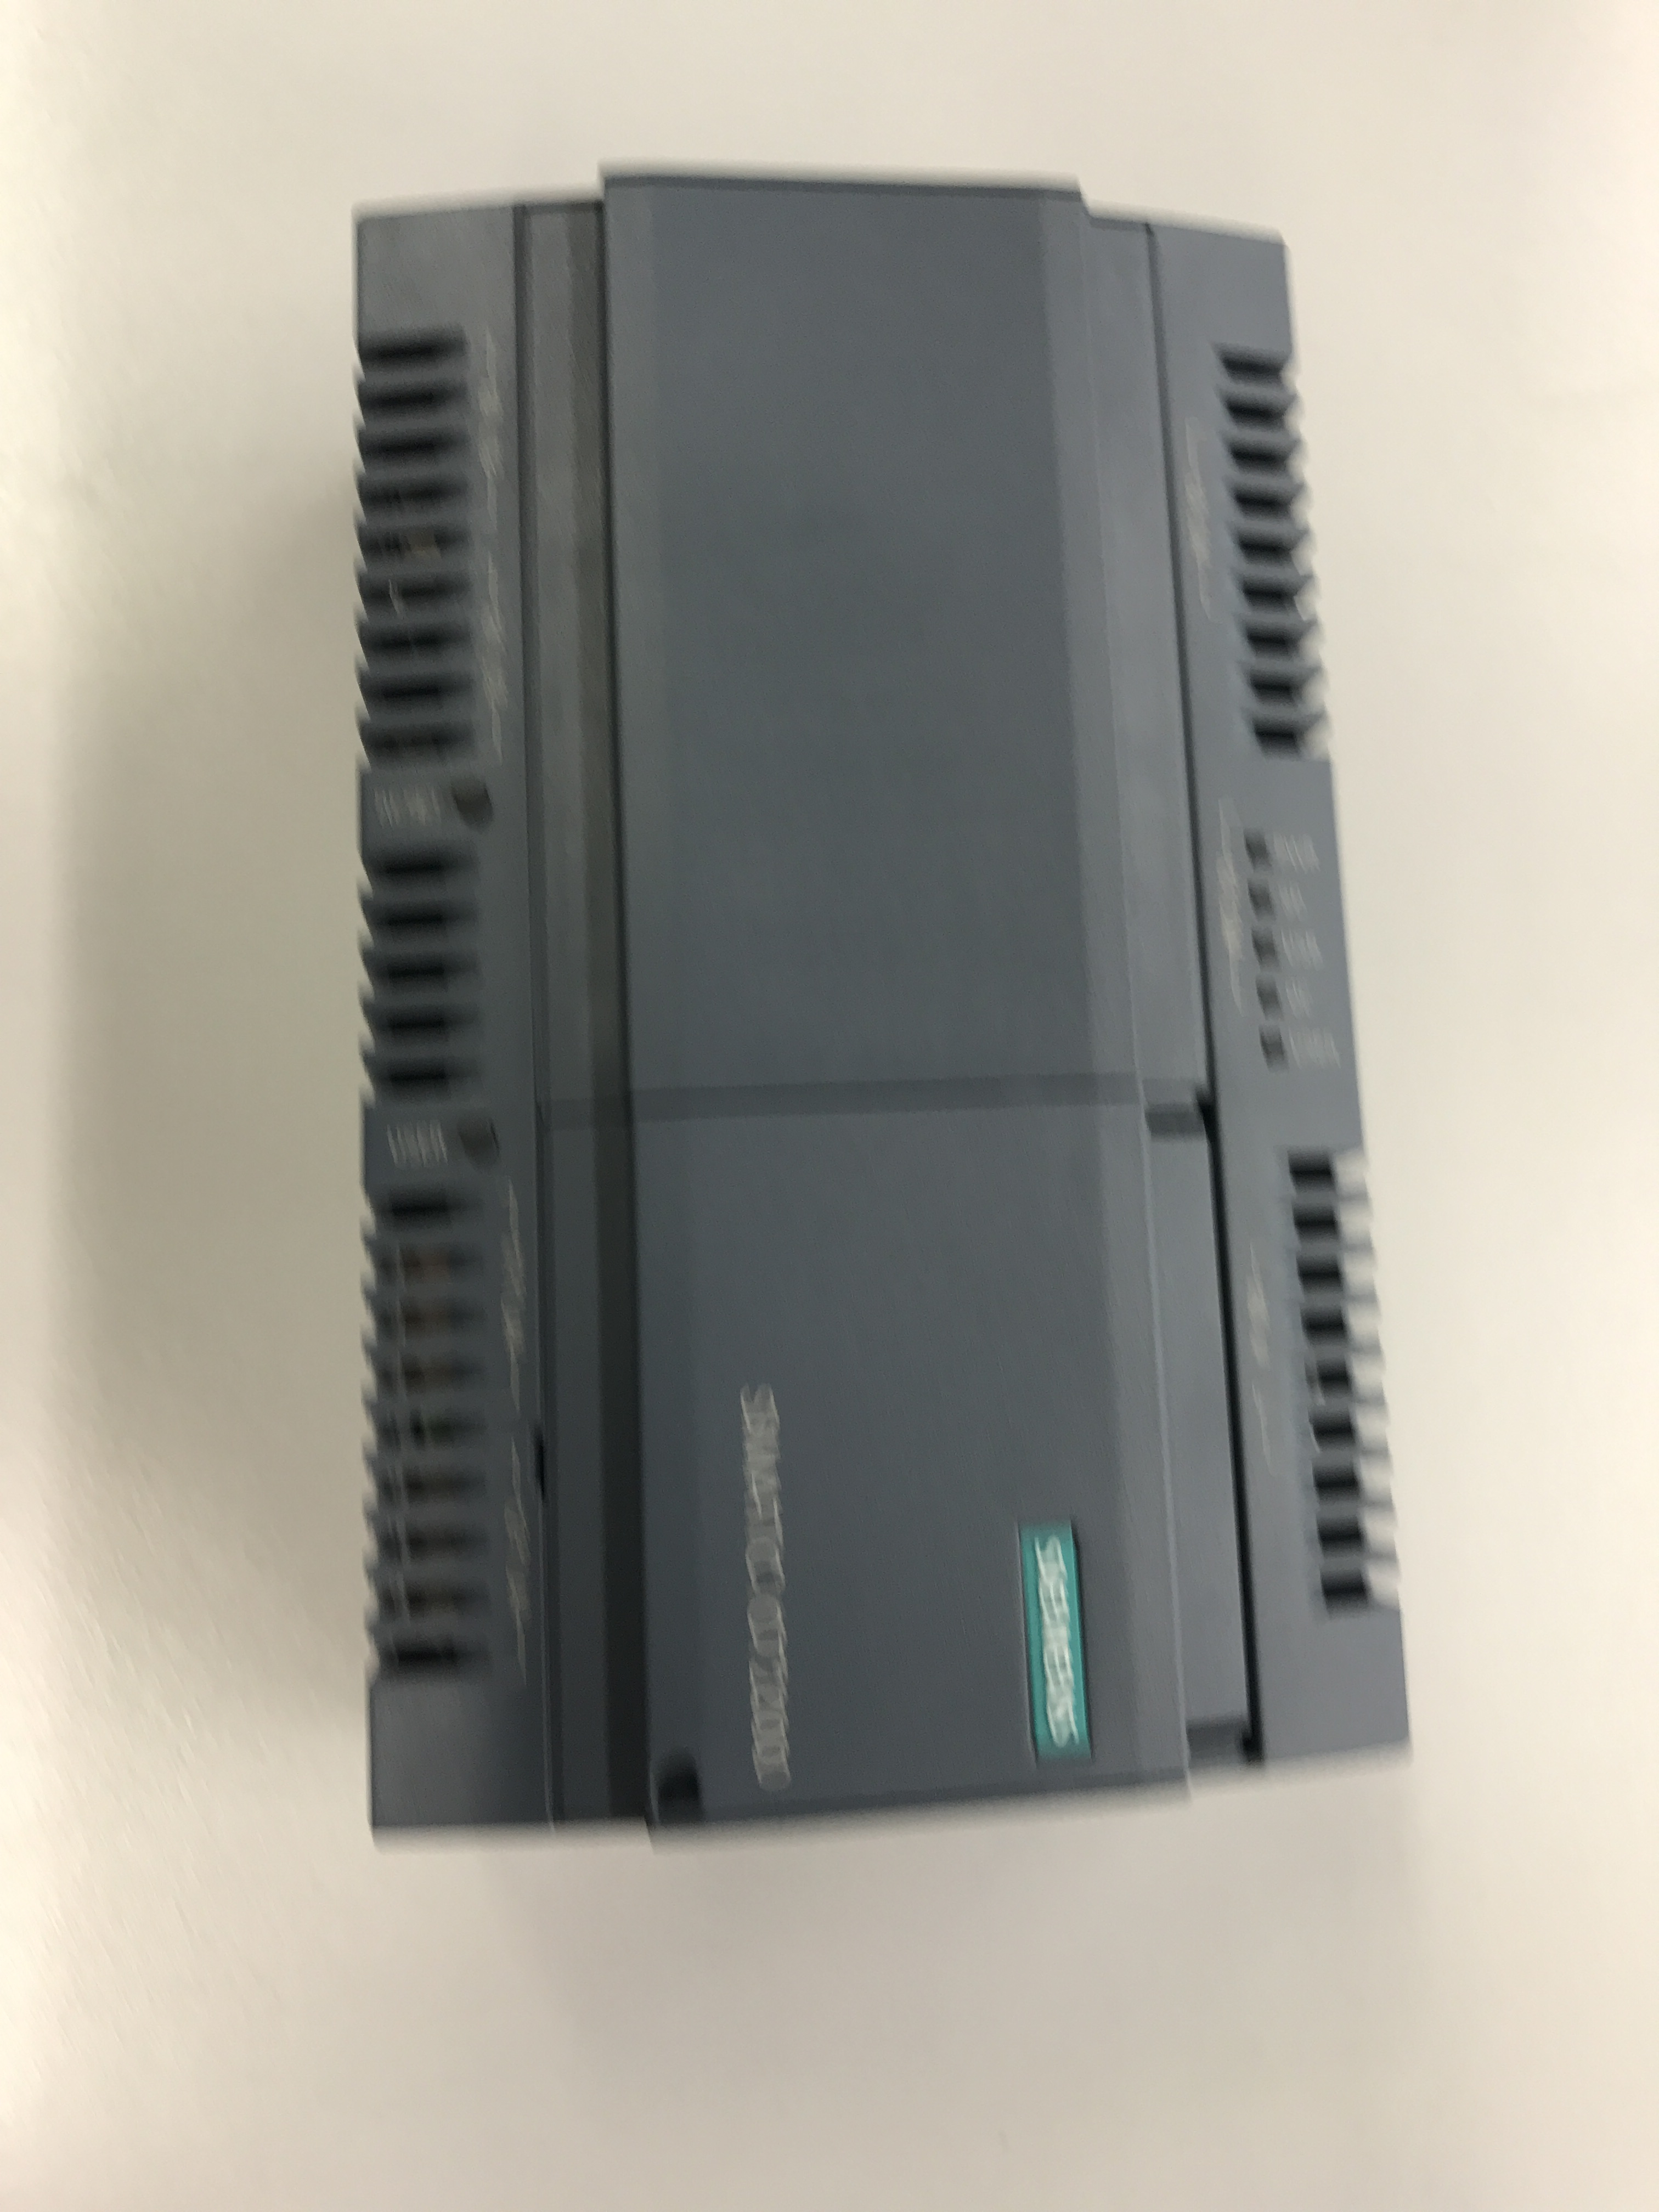device: (354, 164, 1413, 1844)
